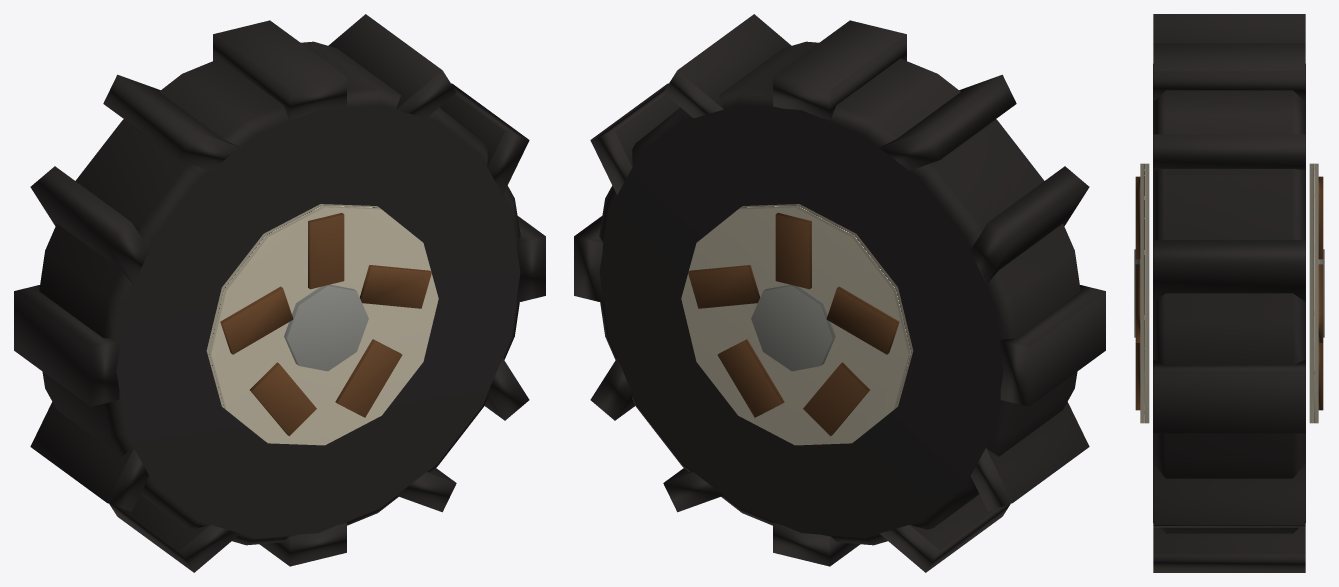
Rendered from wheel_tuktuk.glb.
3 views of the same model, side by side, from view 1: azimuth 30°, elevation 25°; view 2: azimuth 150°, elevation 25°; view 3: azimuth 270°, elevation 25° (orthographic).
Parts seen in each view (by area): view 1: wheel_tuktuk; view 2: wheel_tuktuk; view 3: wheel_tuktuk.
Part boxes in pixels (x1,y1,x2,y2): wheel_tuktuk: (14, 14, 545, 572); wheel_tuktuk: (574, 14, 1105, 572); wheel_tuktuk: (1134, 14, 1324, 572).
Bounding box in the file's own units: 0.8 × 0.8 × 0.2924.
